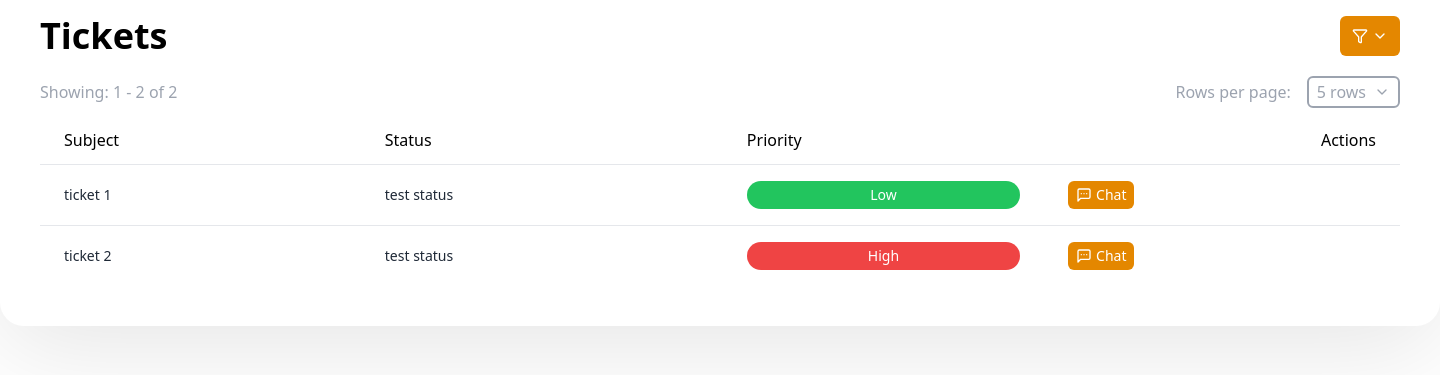
Test case: TicketsCard - rendering › TicketsCard - Sorting › Tickets are correctly sorted by priority when priority is clicked
Check: the text "ticket 1" is shown, box [40,164,361,226]
Click the button "Priority": (774, 140) [747,128,1020,152]
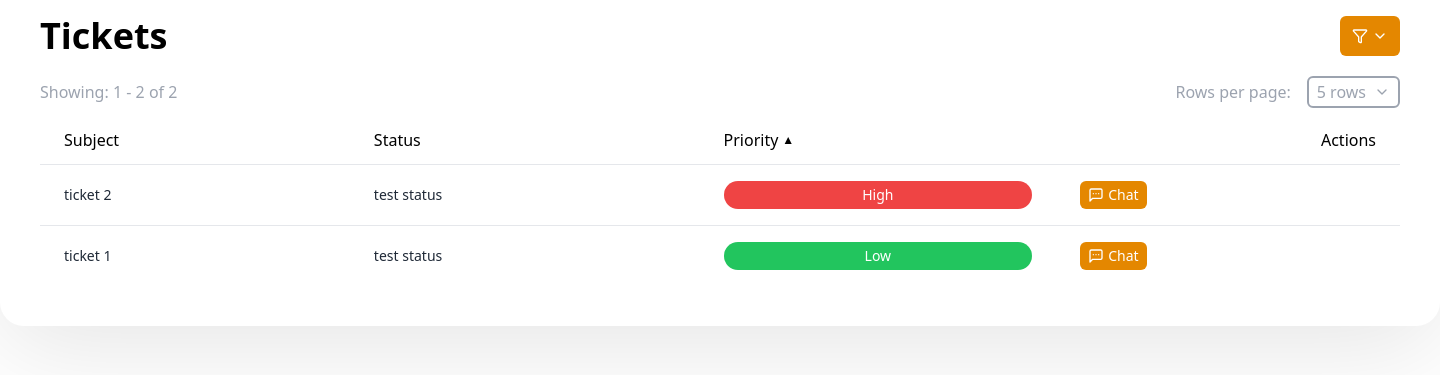
Check: the text "High" is shown, box [724,181,1032,209]
Check: the button "Priority ▲" is shown
Click the button "Priority ▲": (751, 140) [724,128,1032,152]
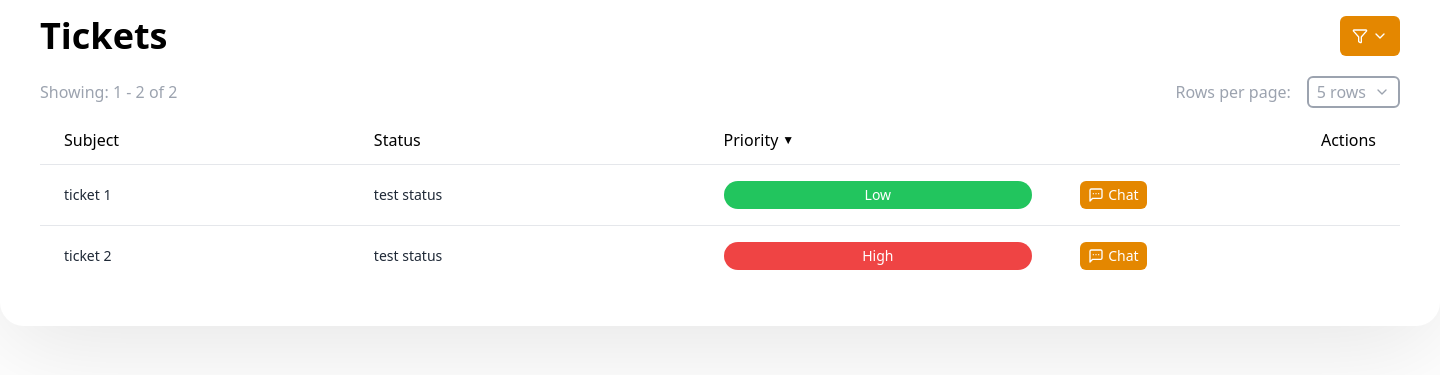
Check: the text "Low" is shown, box [724,181,1032,209]
Check: the button "Priority ▼" is shown, box [724,128,1032,152]
